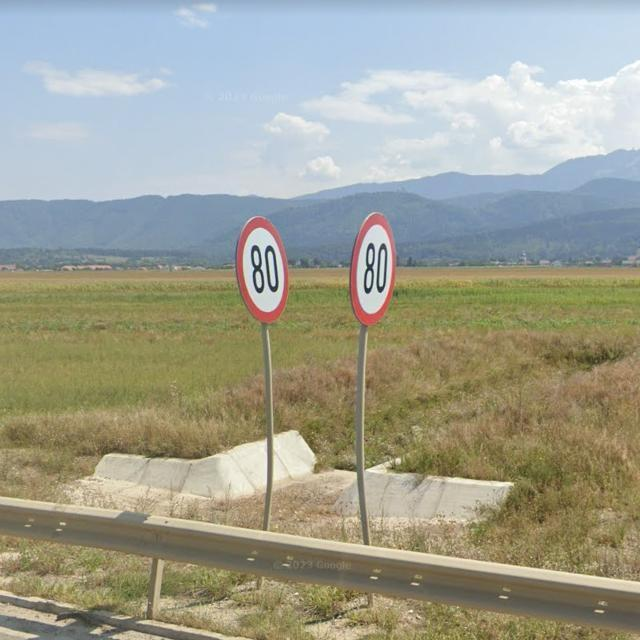forb_speed_over_80: (233, 216, 292, 325), (349, 210, 397, 328)
